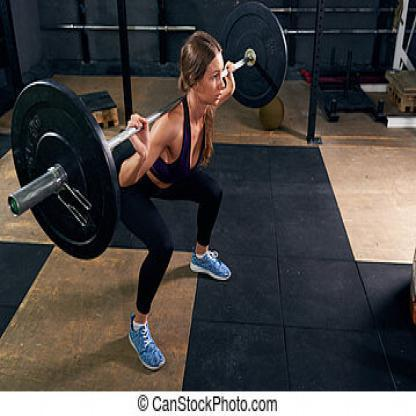barbell: (8, 1, 288, 261)
